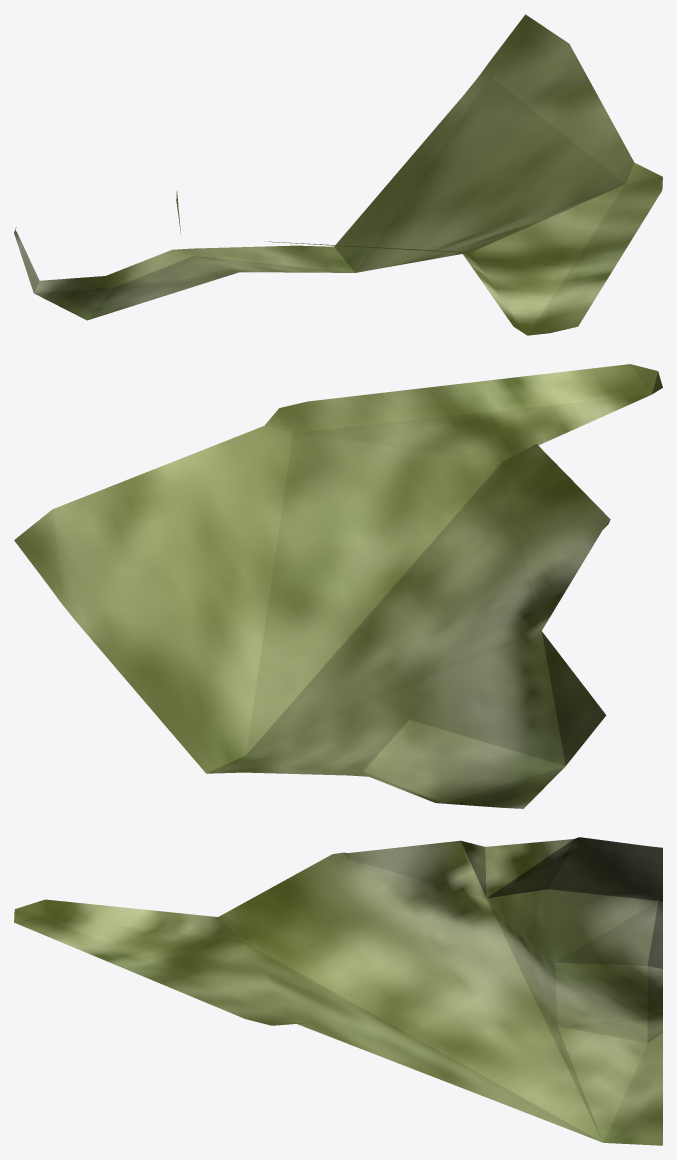
3 views of the same model, one above another, from view 1: azimuth 30°, elevation 25°; view 2: azimuth 150°, elevation 25°; view 3: azimuth 270°, elevation 25° (orthographic). The views are drawn at different scales.
Bounding box in the file's own units: 0.5165 × 0.1732 × 0.5585.
Materials: 1 (1 with a texture image).
